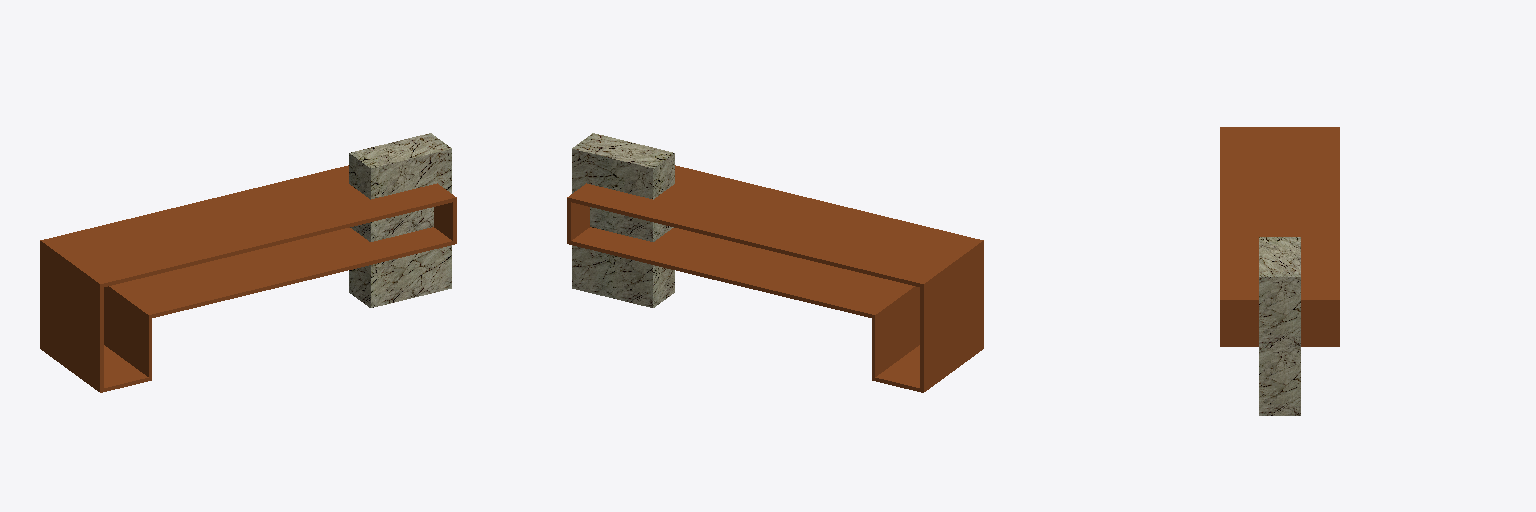
The picture shows the model from 3 angles: view 1: azimuth 30°, elevation 25°; view 2: azimuth 150°, elevation 25°; view 3: azimuth 270°, elevation 25°; orthographic projection.
Parts seen in each view (by area): view 1: Mesh1_Group1_Model.001, Mesh1_Group1_Model; view 2: Mesh1_Group1_Model.001, Mesh1_Group1_Model; view 3: Mesh1_Group1_Model.001, Mesh1_Group1_Model.
Part boxes in pixels (x1,y1,x2,y2): Mesh1_Group1_Model.001: (40,165,456,392); Mesh1_Group1_Model: (349,133,451,307); Mesh1_Group1_Model.001: (567,165,983,392); Mesh1_Group1_Model: (572,133,674,307); Mesh1_Group1_Model.001: (1220,127,1339,346); Mesh1_Group1_Model: (1259,237,1300,415).
Size of the model in its own units: 41.67 by 15 by 11.67.
Materials: 2 (1 with a texture image).